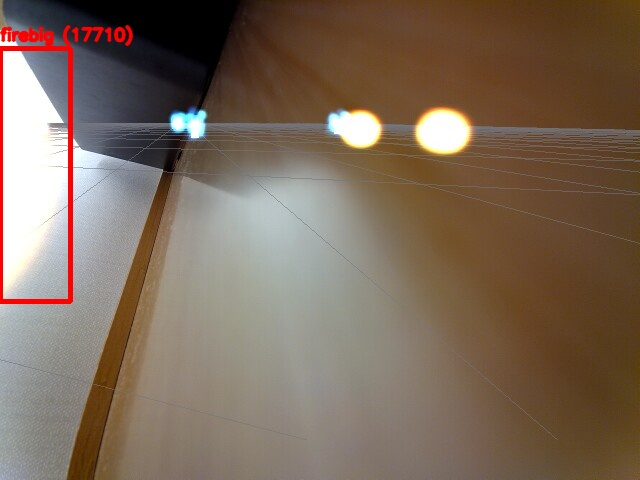firebig: (0, 48, 70, 301)
